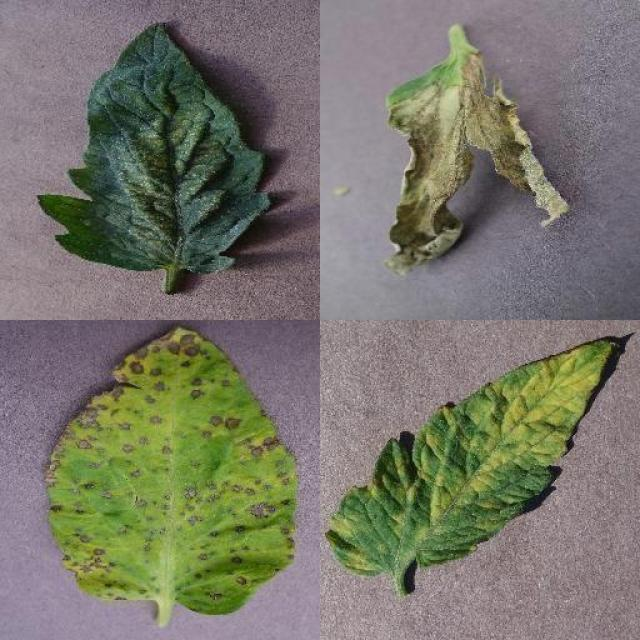Late Blight: (385, 58, 571, 278)
Septoria: (48, 325, 298, 615)
